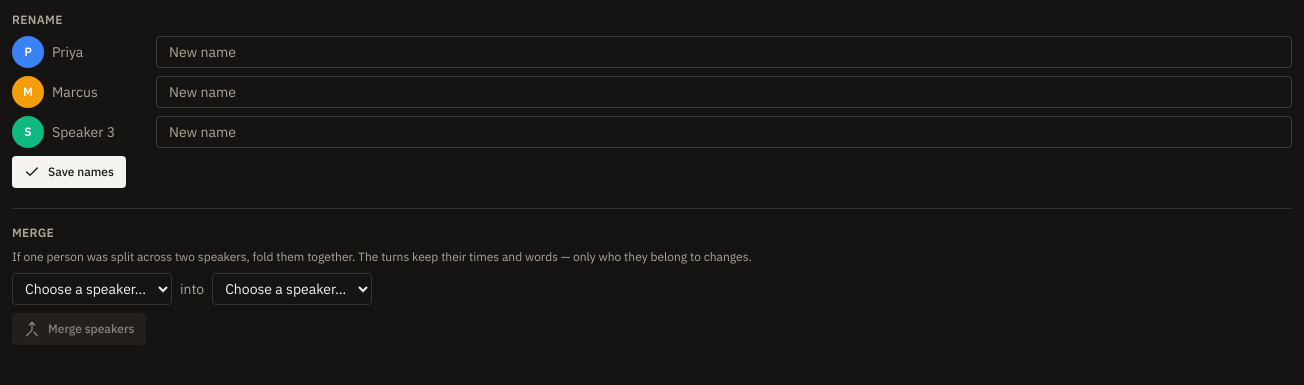
Scenario: merging › names both people on the button, because there is no undo
Select "Speaker 3" in the dropdown named "Speaker to merge" at [92, 289], box [12,273,172,305]
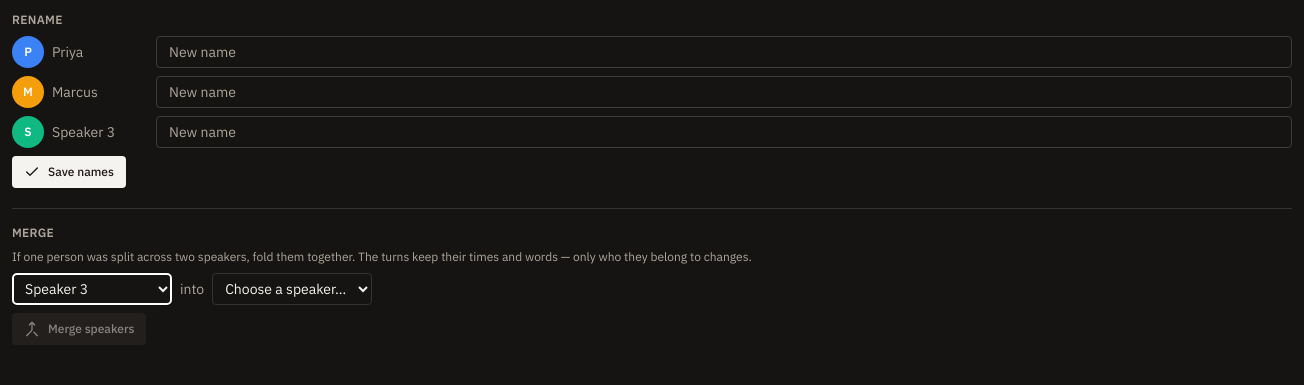
Select "Priya" in the dropdown named "Merge into" at [292, 289], box [212,273,372,305]
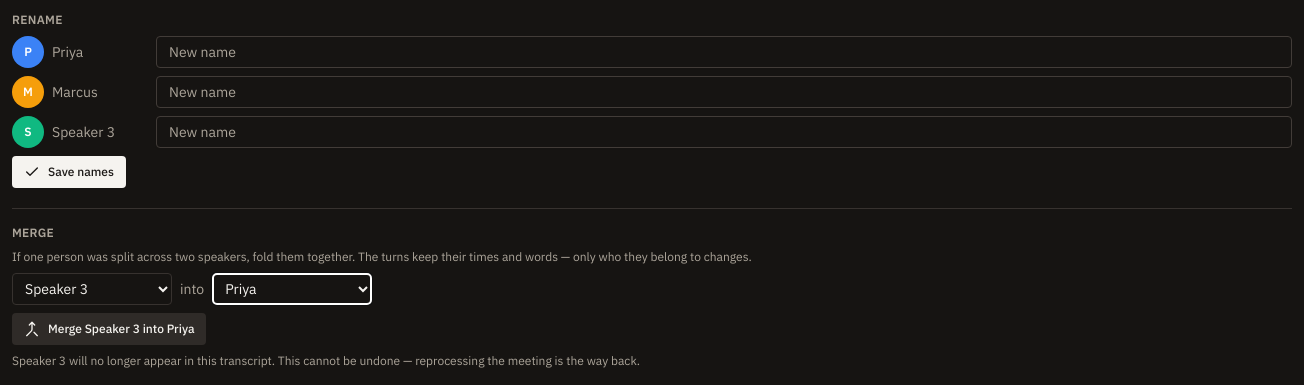
Expected: the button "Merge Speaker 3 into Priya" is enabled, [12,313,206,345]
